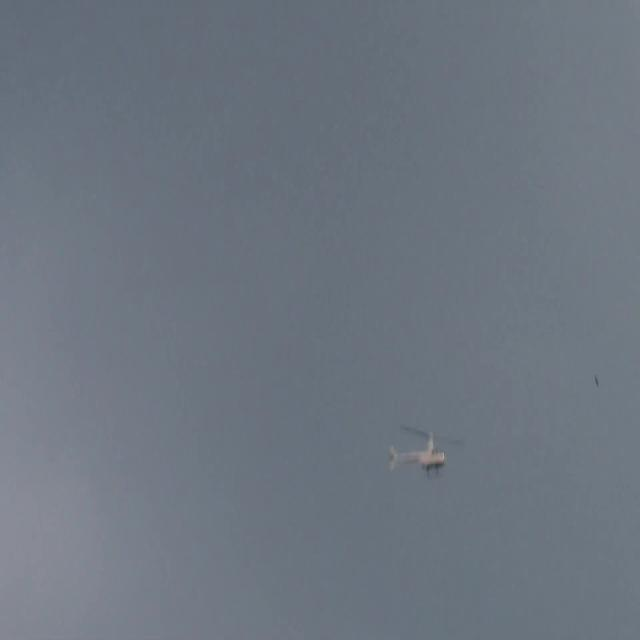CIV_HELO: (390, 430, 447, 481)
